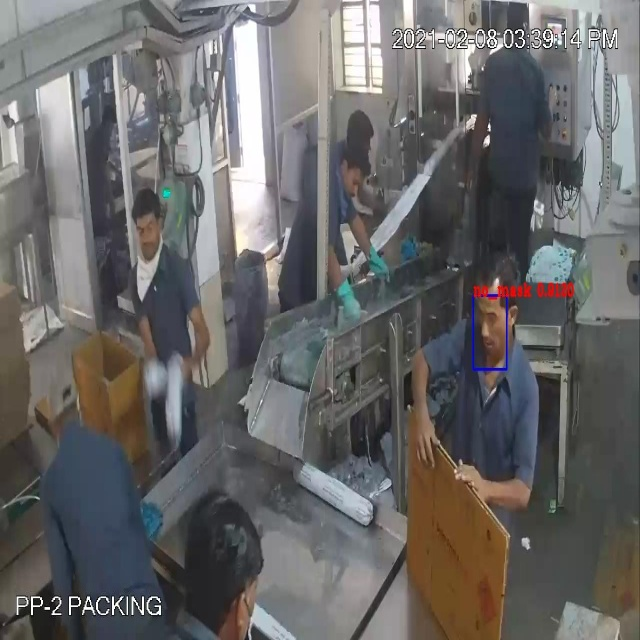Guantes: (332, 261, 371, 332)
Sin_guantes: (455, 440, 539, 525), (179, 294, 227, 394), (126, 298, 169, 409), (405, 332, 437, 472)
